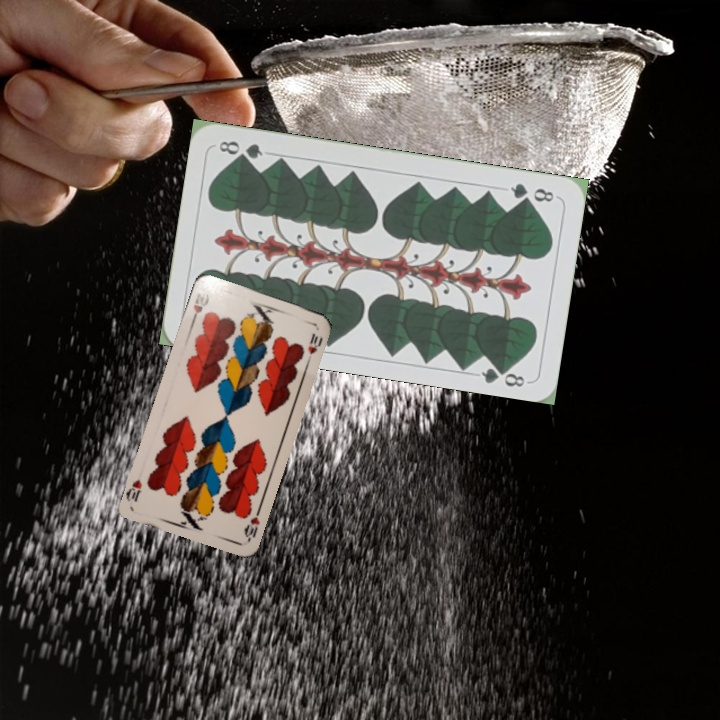G8: (506, 179, 557, 205)
H10: (240, 504, 263, 544), (187, 289, 206, 326)
